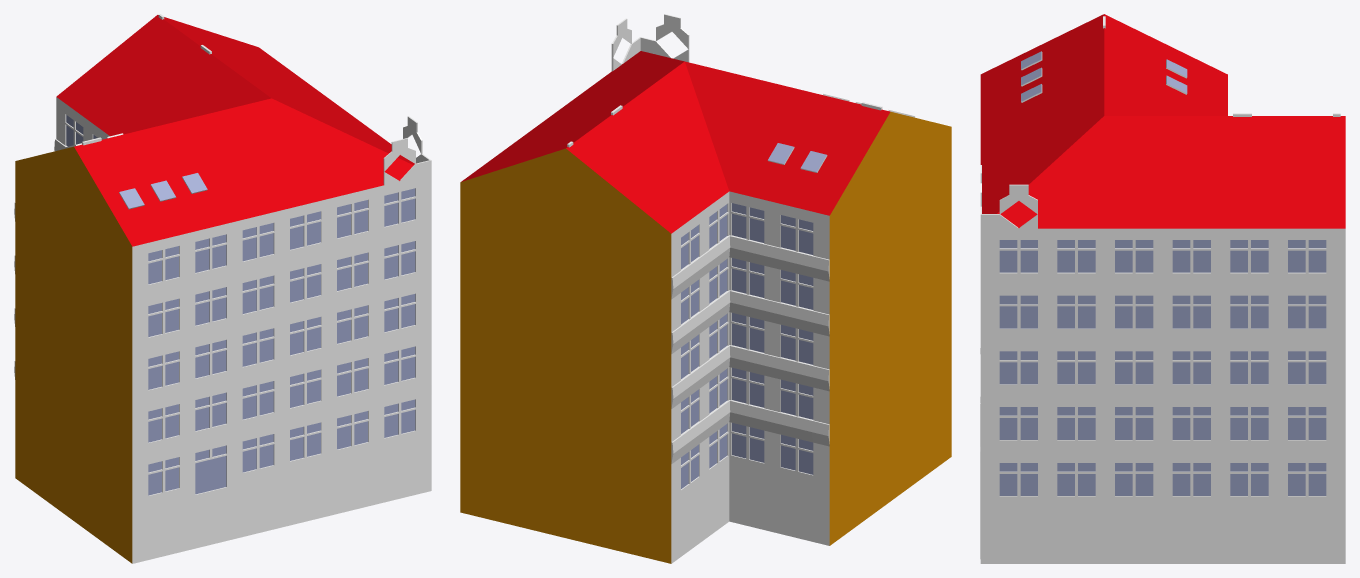
File: BuildingCorner.glb
3 renders of one model, left to right at view 1: azimuth 30°, elevation 25°; view 2: azimuth 150°, elevation 25°; view 3: azimuth 270°, elevation 25°, orthographic. The views are drawn at different scales.
Visible parts, largest first — view 1: Cube; view 2: Cube; view 3: Cube.
Boxes of the visible parts, x1,y1,x2,y2 form: Cube: (14, 14, 431, 563); Cube: (460, 14, 951, 563); Cube: (980, 14, 1345, 563).
Bounding box in the file's own units: 23.75 × 28.58 × 23.75.
